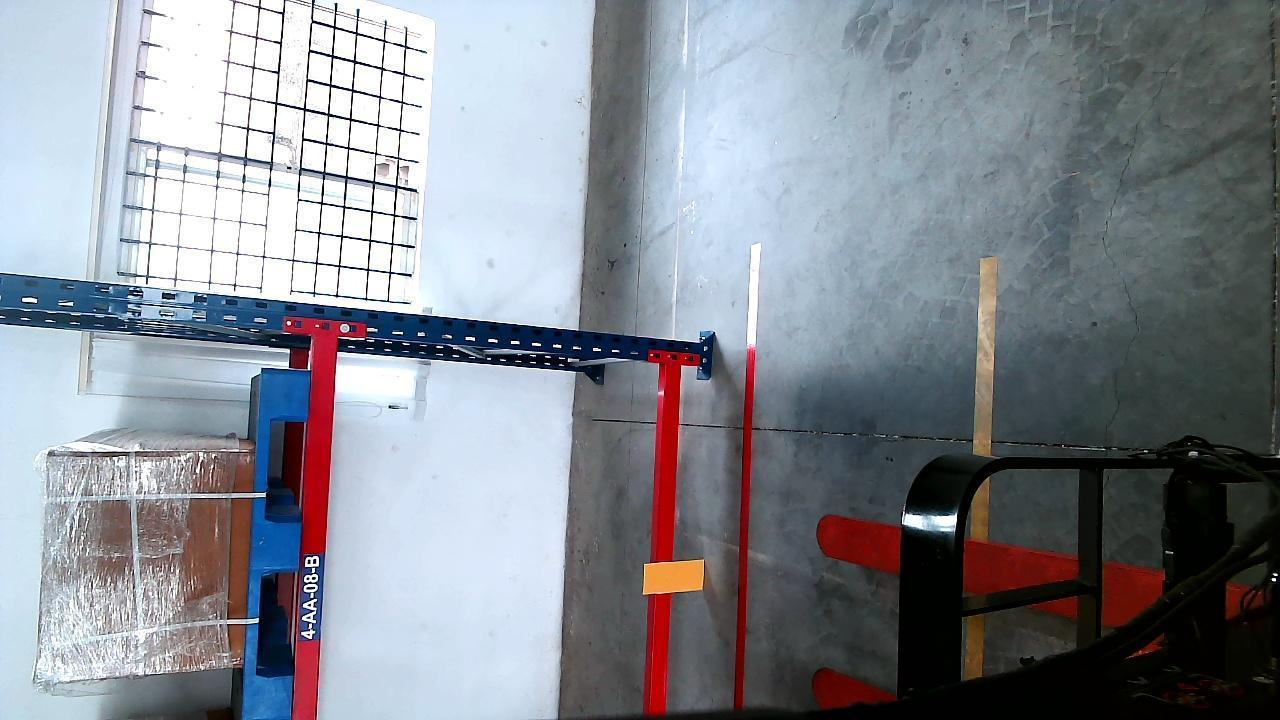h_rack: (295, 338, 341, 720), (645, 363, 682, 718)
orange_strip: (647, 559, 705, 594)
red_line: (731, 251, 761, 720)
small_pallet: (240, 368, 307, 720)
yellow_line: (972, 254, 995, 455)
